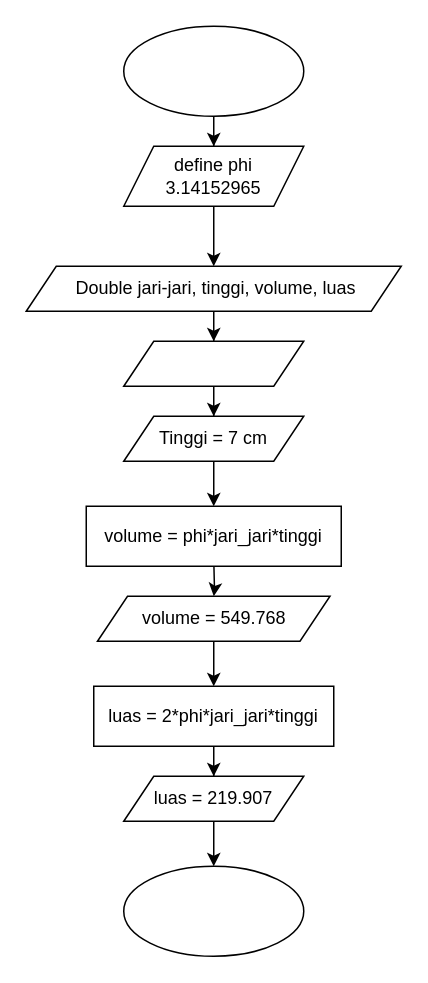
Image size: 428x983. Some labels were removed from this diagram. Each missing label, with the centre of its shape:
"End" goes at [213,910].
"Jari-jari = 7 cm" goes at [213,363].
"Start" goes at [213,70].
